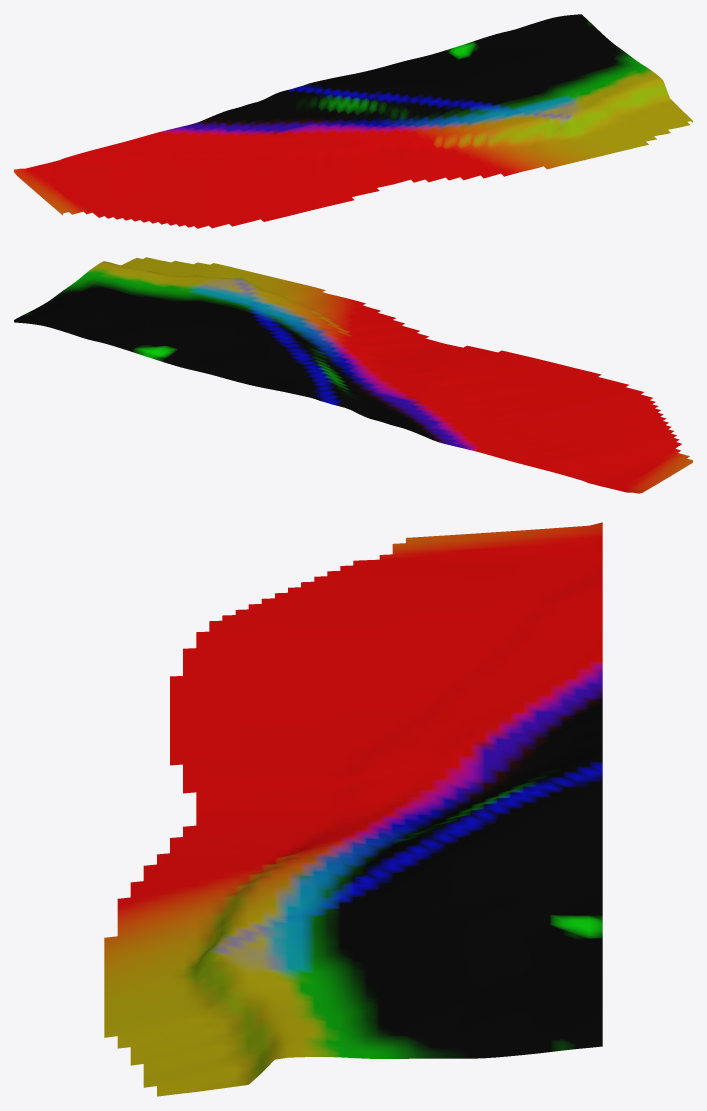
The model's file is coast_0_400_400.glb.
3 renders of one model, top to bottom at view 1: azimuth 30°, elevation 25°; view 2: azimuth 150°, elevation 25°; view 3: azimuth 270°, elevation 25°, orthographic. The views are drawn at different scales.
Parts seen in each view (by area): view 1: terrain; view 2: terrain; view 3: terrain.
Boxes of the visible parts, x1,y1,x2,y2 form: terrain: (14,14,692,228); terrain: (14,257,692,493); terrain: (104,522,602,1096).
Size of the model in its own units: 400 by 20.64 by 152.
